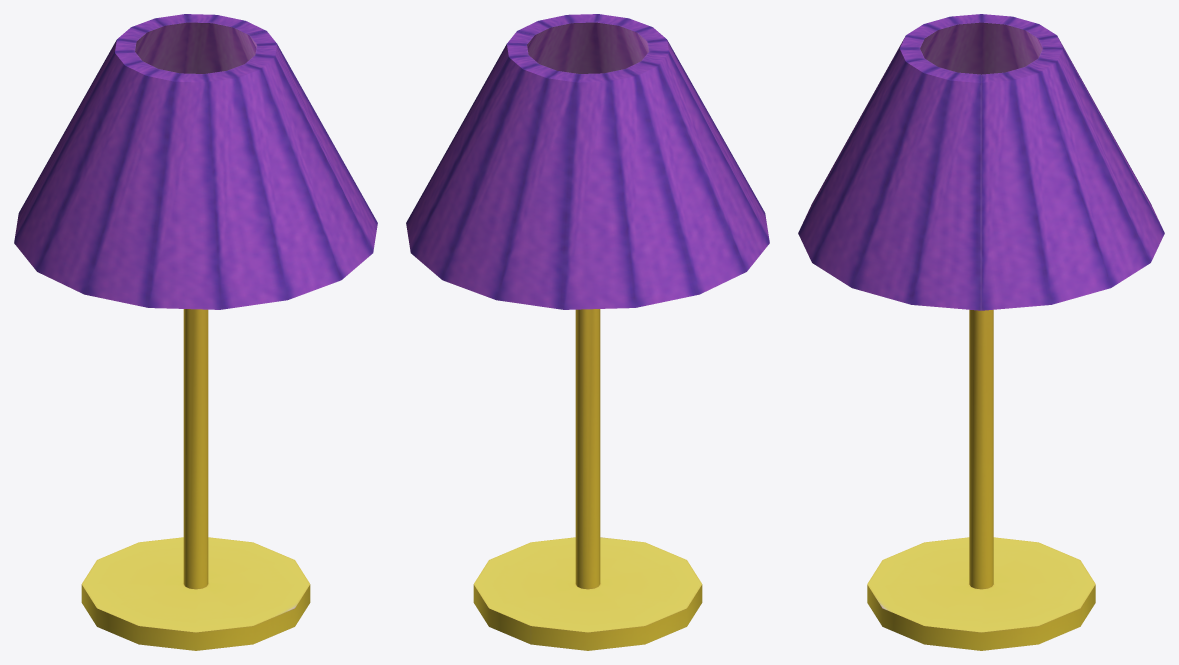
The model's file is Lamp.FBX.
3 views of the same model, side by side, from view 1: azimuth 30°, elevation 25°; view 2: azimuth 150°, elevation 25°; view 3: azimuth 270°, elevation 25° (orthographic).
Visible parts, largest first — view 1: Lamp; view 2: Lamp; view 3: Lamp.
Part boxes in pixels (x1=…): Lamp: x1=14, y1=14, x2=377, y2=650; Lamp: x1=406, y1=14, x2=769, y2=650; Lamp: x1=798, y1=14, x2=1164, y2=650.
Bounding box in the file's own units: 90 × 150 × 90.
1 material, 1 textured.
